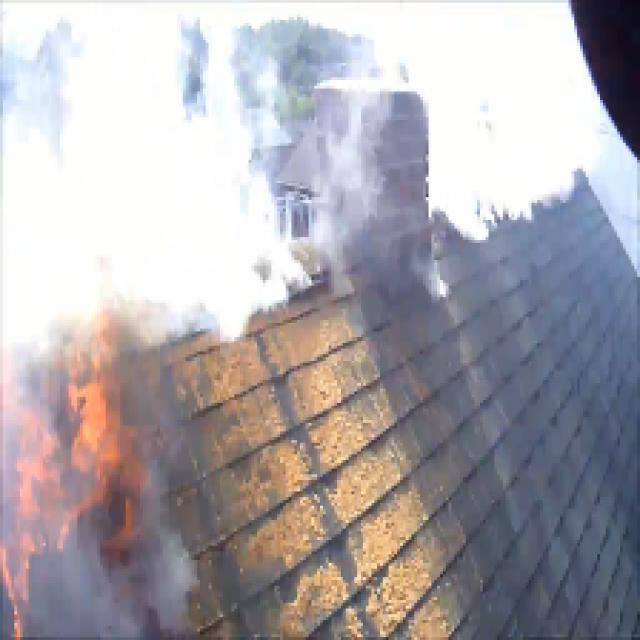Smoke: (34, 25, 250, 324), (420, 18, 584, 214)
